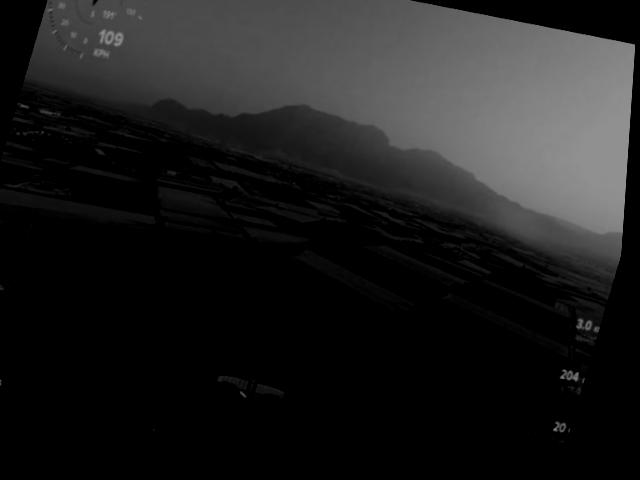hedef: (213, 362, 301, 425)
